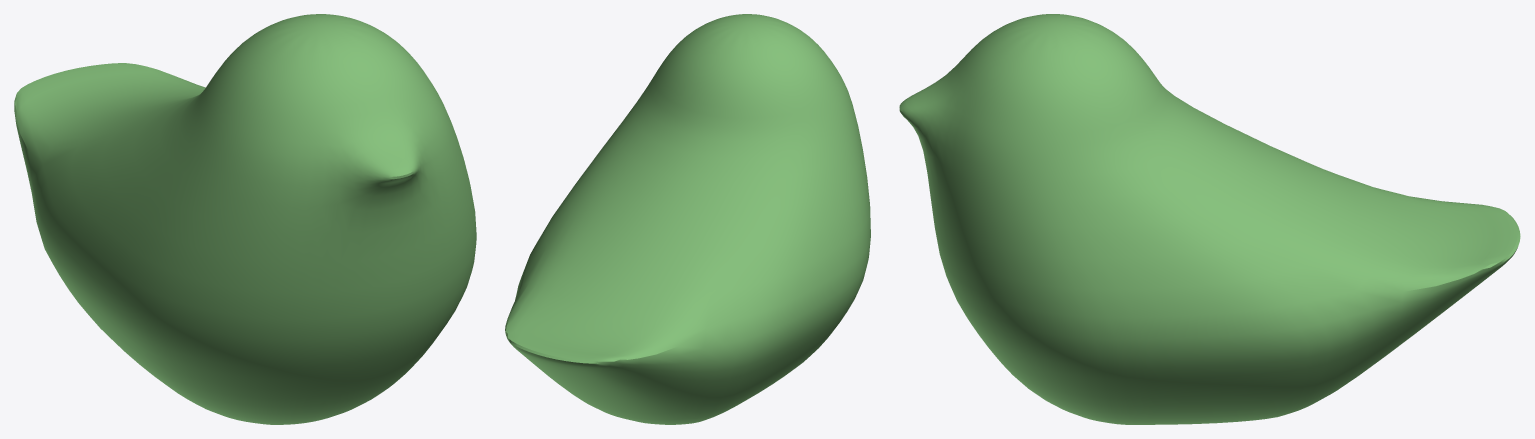
The picture shows the model from 3 angles, left to right: view 1: azimuth 30°, elevation 25°; view 2: azimuth 150°, elevation 25°; view 3: azimuth 270°, elevation 25°; orthographic projection. The views are drawn at different scales.
Parts seen in each view (by area): view 1: 球; view 2: 球; view 3: 球.
Boxes of the visible parts, x1,y1,x2,y2 form: 球: [14, 14, 476, 424]; 球: [505, 14, 870, 424]; 球: [899, 14, 1520, 424].
Bounding box in the file's own units: 298 × 356 × 520.
